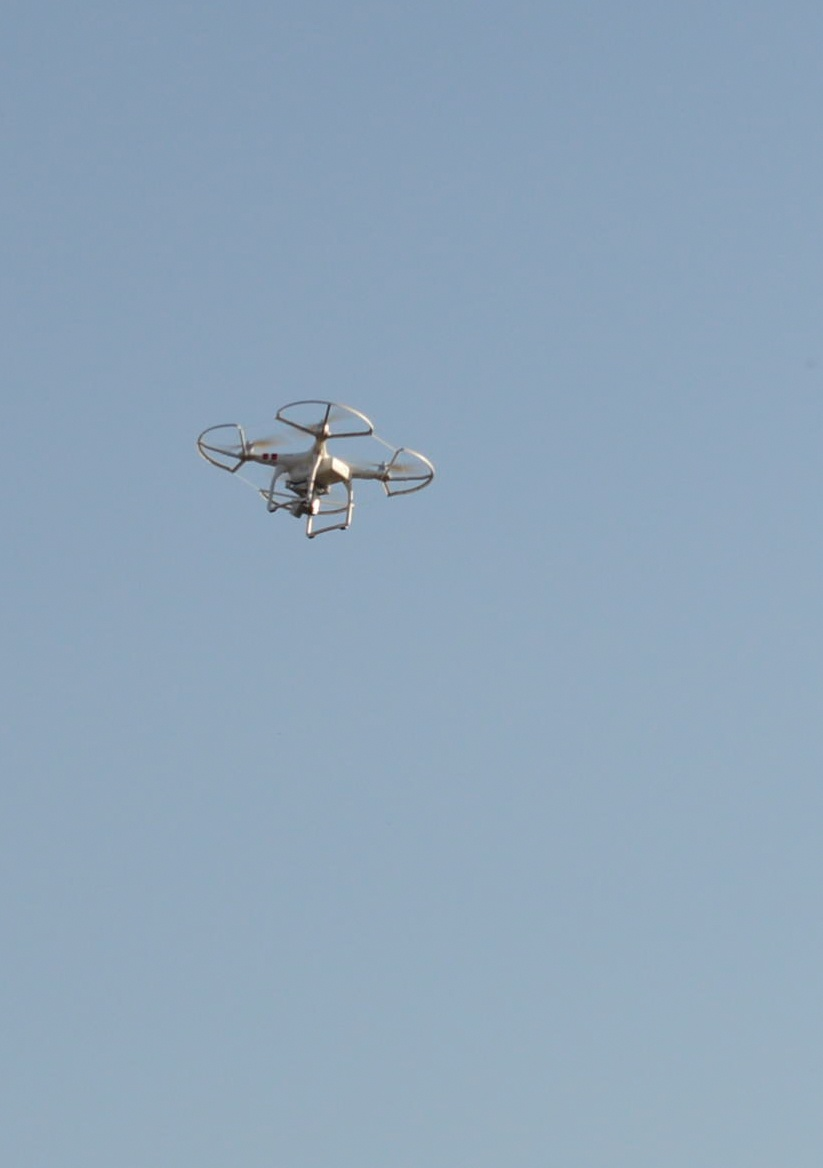DJI: (196, 400, 436, 540)
